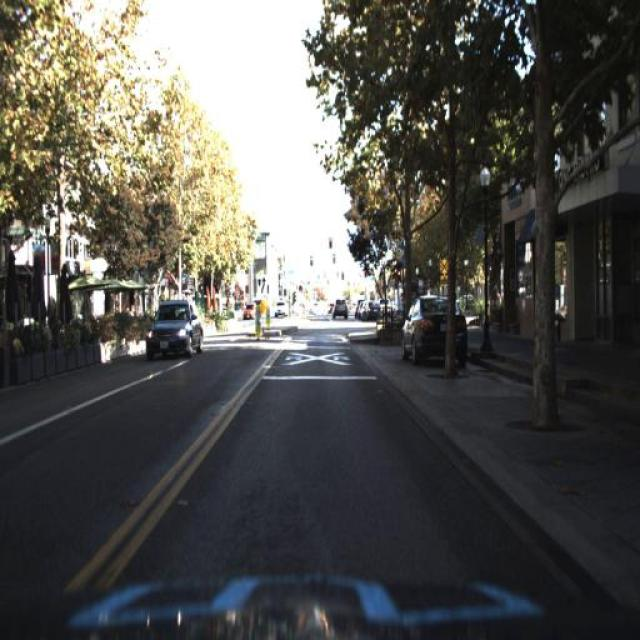car: (399, 294, 471, 370), (141, 297, 204, 365), (333, 295, 352, 327)
